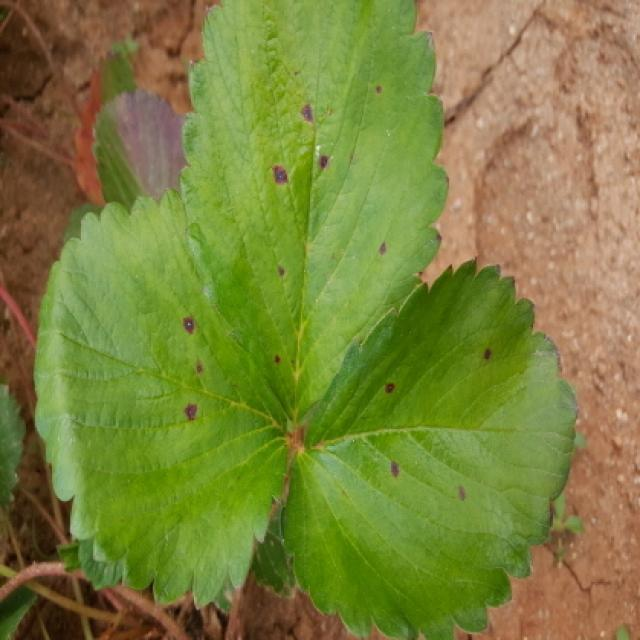Leaf Spot: (180, 0, 449, 428), (280, 256, 580, 638), (32, 185, 292, 613)
